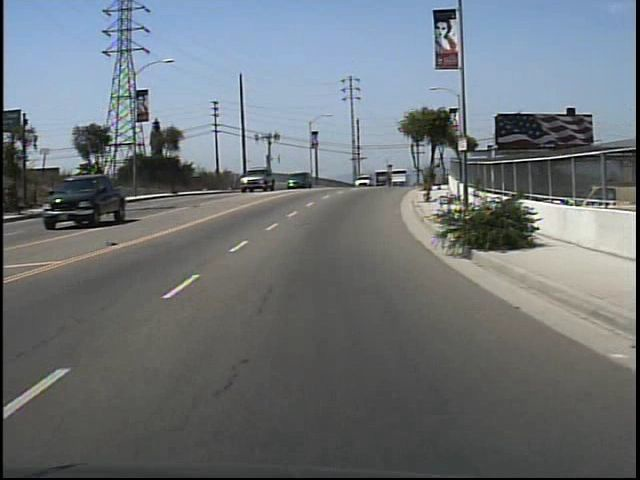person: (432, 163, 446, 192)
